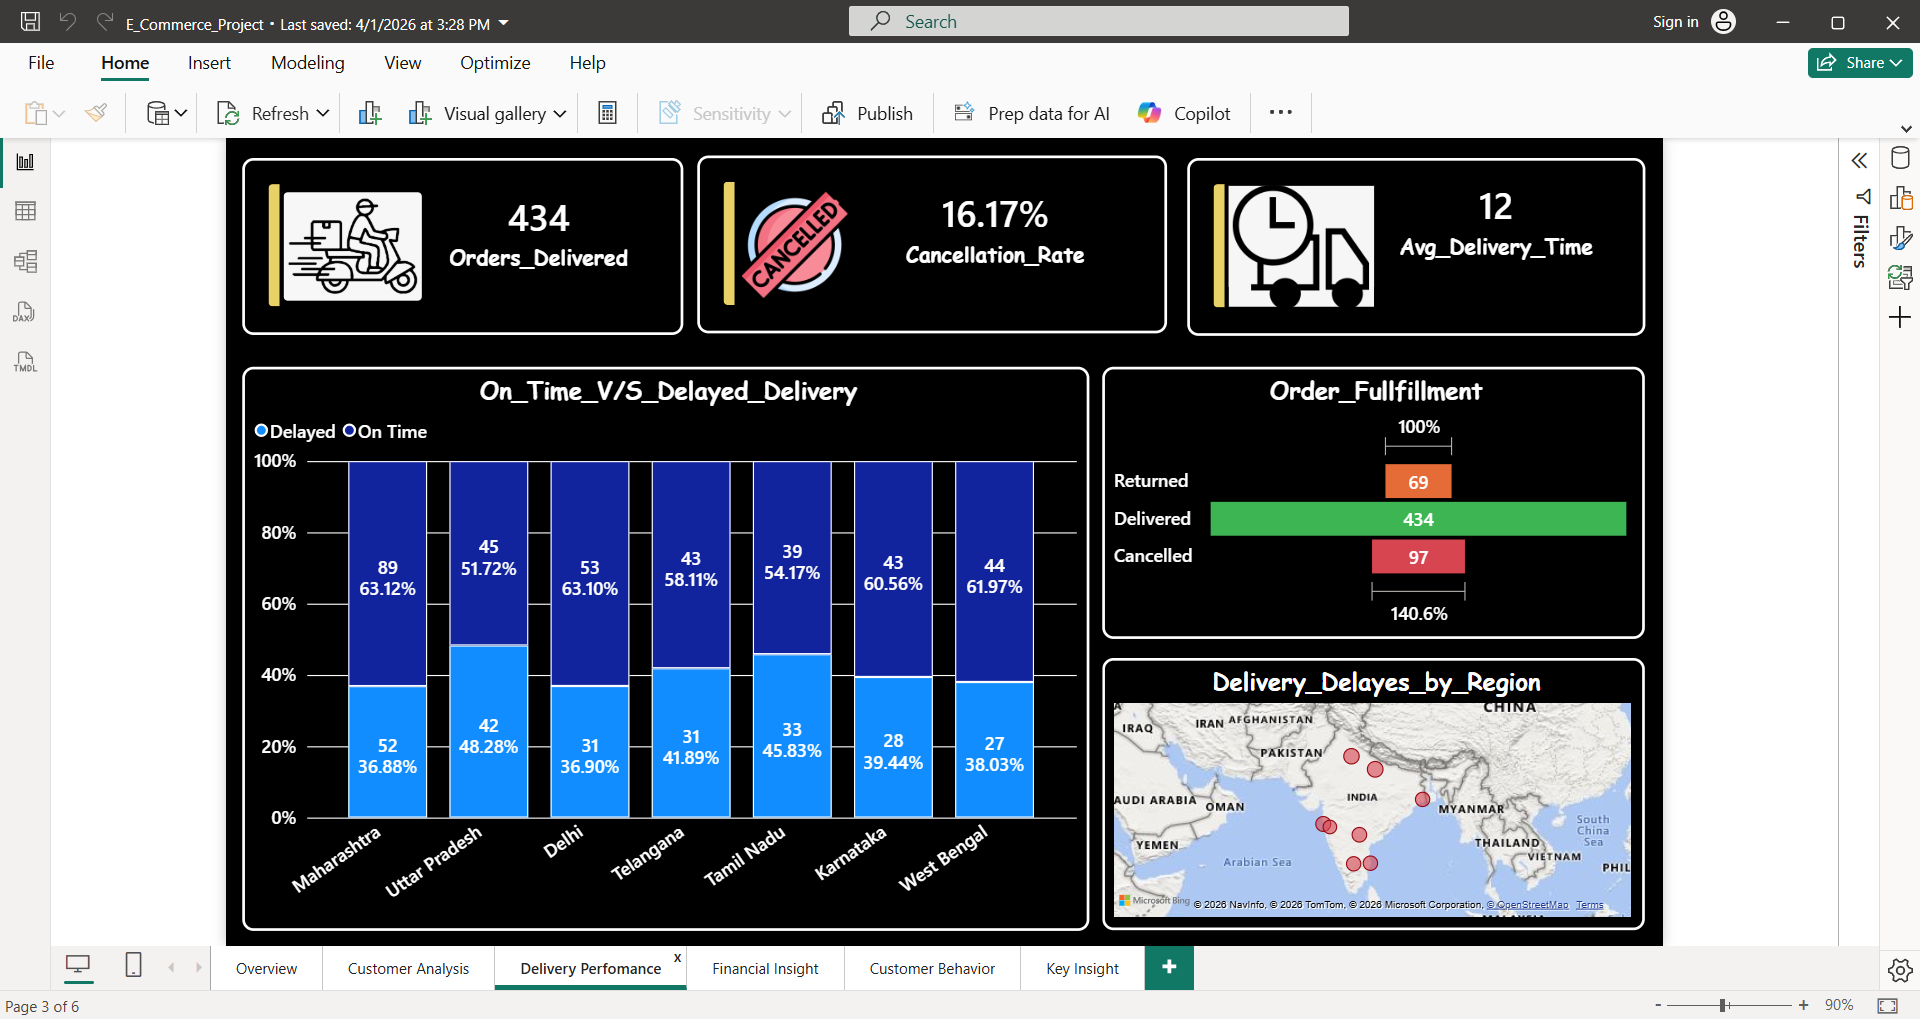

This screenshot's page, from the dashboard's own definition file:
{"tool":"powerbi","page":{"name":"Delivery Perfomance","canvas":[1280,720],"ordinal":2},"visuals":[{"type":"cardVisual","fields":{"Data":["Delivery_Perfomace_Table.Orders Delivered"]},"box":[14.4,17.3,392.4,157.3],"z":0},{"type":"cardVisual","fields":{"Data":["Delivery_Perfomace_Table.Cancellation Rate"]},"box":[419.8,15.9,418.4,158.7],"z":1000},{"type":"cardVisual","fields":{"Data":["Count(E_Commerce_Dataset.Average Delivery Time (Days))"]},"box":[855.6,17.3,408.3,158.7],"z":2000},{"type":"funnel","title":"Order_Fullfillment","fields":{"Category":["E_Commerce_Dataset.Order_Status"],"Y":["CountNonNull(E_Commerce_Dataset.Order_ID)"]},"box":[780.5,203.4,483.3,242.4],"z":3000},{"type":"map","title":"Delivery_Delayes_by_Region","fields":{"Category":["E_Commerce_Dataset.City","E_Commerce_Dataset.State"],"Size":["CountNonNull(E_Commerce_Dataset.Order_ID)"]},"box":[780.5,463.1,483.3,242.4],"z":4000},{"type":"hundredPercentStackedColumnChart","title":"On_Time_V/S_Delayed_Delivery","fields":{"Category":["E_Commerce_Dataset.State"],"Series":["E_Commerce_Dataset.Delay Status"],"Y":["CountNonNull(E_Commerce_Dataset.Order_ID)"]},"box":[14.4,203.4,754.6,502.1],"z":5000}]}

Visuals, with their boxes on the page's 1280x720 design canvas (x1, y1, x2, y2). These are canvas units, not pixel positions in the 1920x1019 screenshot, which may show the page scaled, cropped or inside an application window:
cardVisual - Delivery_Perfomace_Table.Orders Delivered: <region>14, 17, 407, 175</region>
cardVisual - Delivery_Perfomace_Table.Cancellation Rate: <region>420, 16, 838, 175</region>
cardVisual - Count(E_Commerce_Dataset.Average Delivery Time (Days)): <region>856, 17, 1264, 176</region>
"Order_Fullfillment" funnel: <region>780, 203, 1264, 446</region>
"Delivery_Delayes_by_Region" map: <region>780, 463, 1264, 706</region>
"On_Time_V/S_Delayed_Delivery" hundredPercentStackedColumnChart: <region>14, 203, 769, 706</region>
